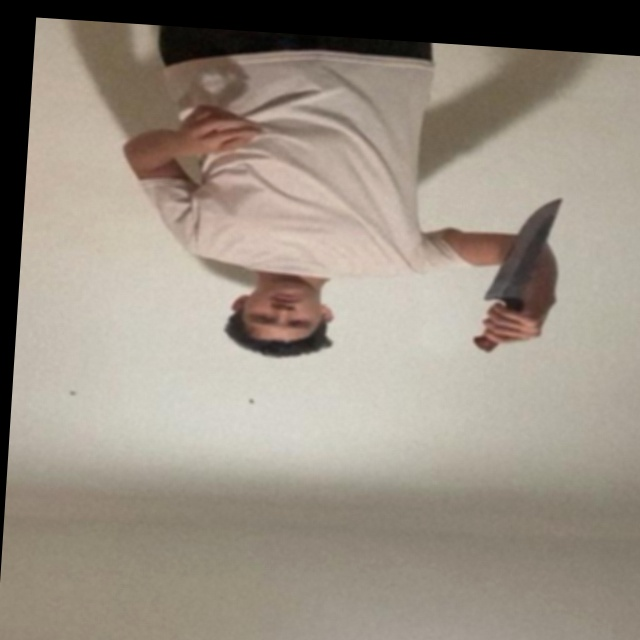Sharp-Object: (478, 195, 567, 306)
